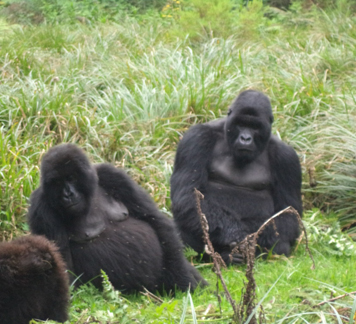Goriila: (21, 134, 201, 309), (165, 68, 311, 266)
